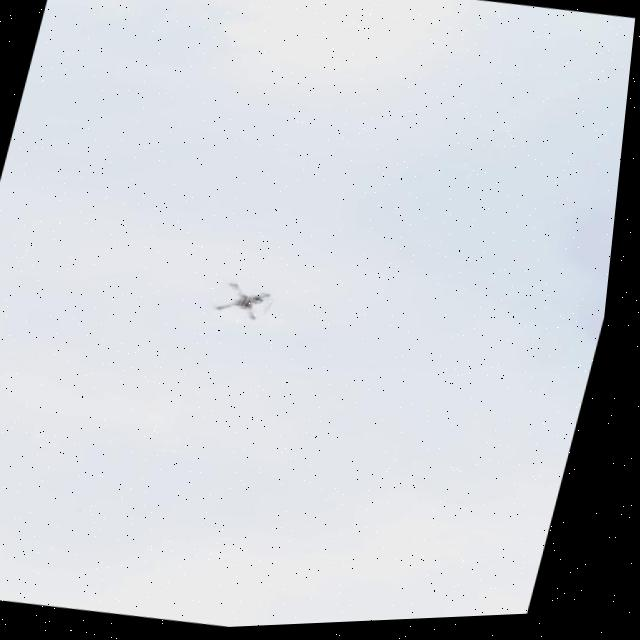drones: (204, 277, 299, 337)
